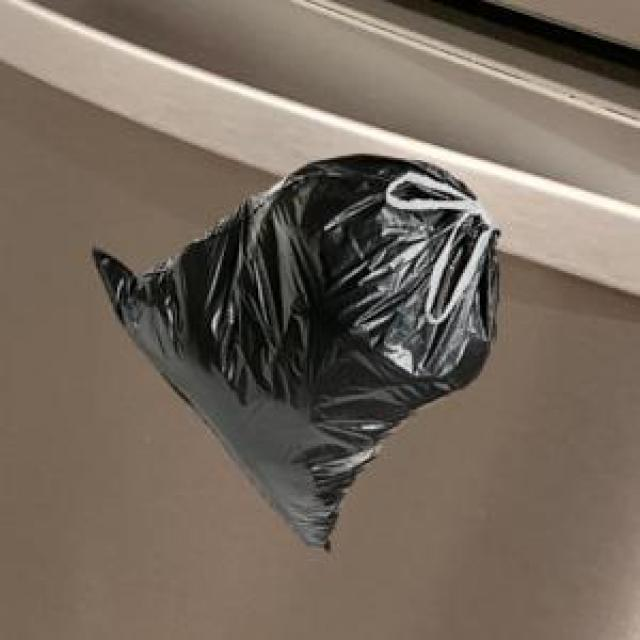waste: (92, 155, 499, 544)
